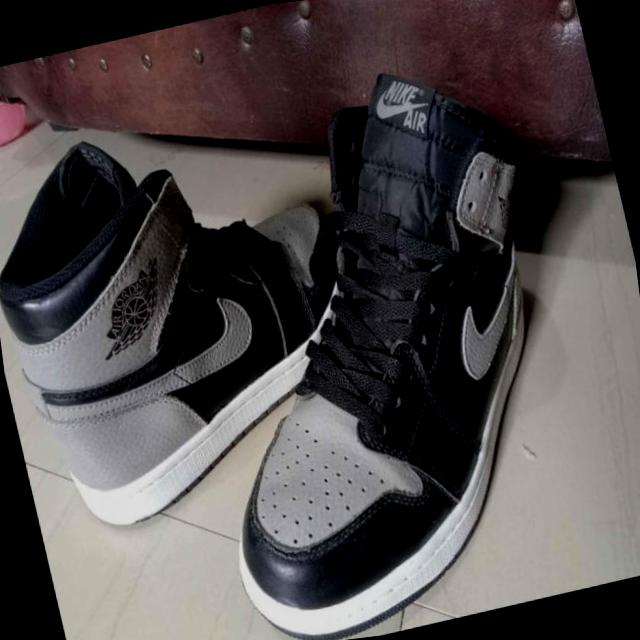nike_fake_jordan: (130, 39, 616, 640), (0, 82, 400, 544)
